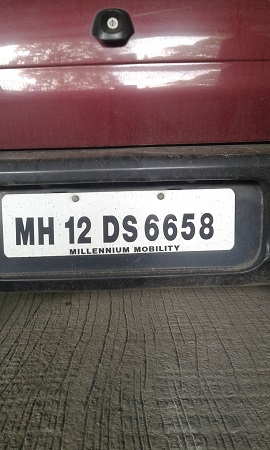licenseplate: (1, 182, 239, 256)
